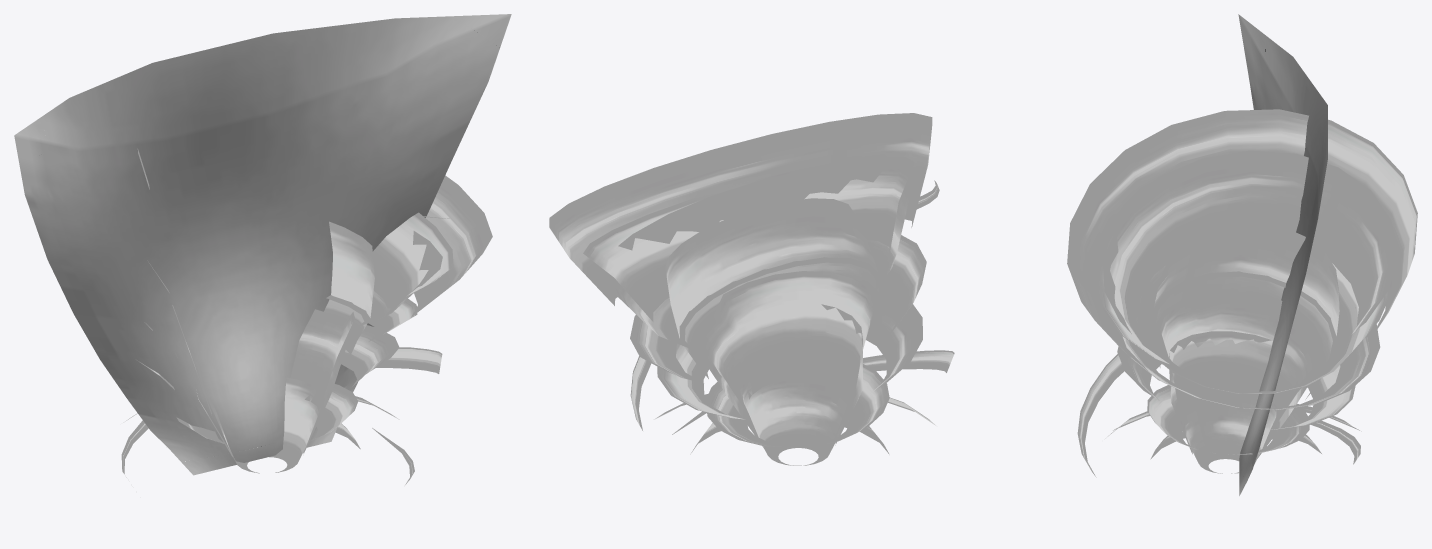
Rendered from tornado.glb.
3 views of the same model, side by side, from view 1: azimuth 30°, elevation 25°; view 2: azimuth 150°, elevation 25°; view 3: azimuth 270°, elevation 25° (orthographic). The views are drawn at different scales.
Visible parts, largest first — view 1: FX_Props_Item_Tornado_Appear_02, FX_Props_Item_Tornado_Appear_01; view 2: FX_Props_Item_Tornado_Appear_01; view 3: FX_Props_Item_Tornado_Appear_01, FX_Props_Item_Tornado_Appear_02.
Boxes of the visible parts, x1,y1,x2,y2 form: FX_Props_Item_Tornado_Appear_02: [14, 14, 511, 475]; FX_Props_Item_Tornado_Appear_01: [121, 148, 492, 484]; FX_Props_Item_Tornado_Appear_01: [549, 113, 954, 465]; FX_Props_Item_Tornado_Appear_01: [1067, 109, 1417, 477]; FX_Props_Item_Tornado_Appear_02: [1238, 14, 1327, 495].
Size of the model in its own units: 3.57 by 2.66 by 2.44.
2 materials, 2 textured.
